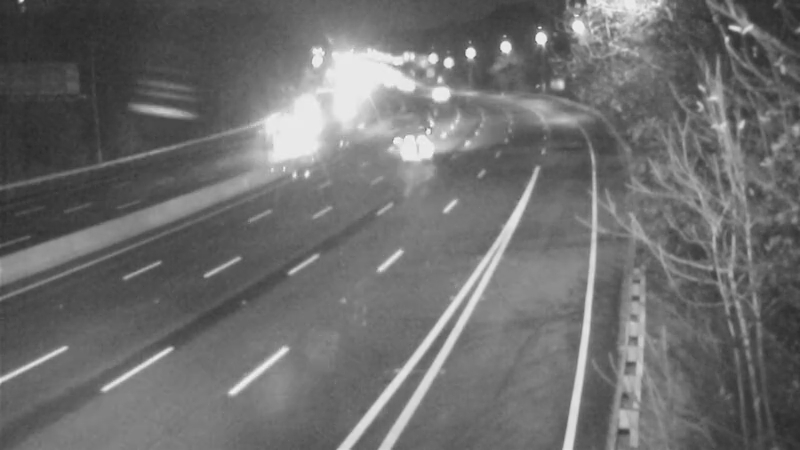vehicle: (388, 105, 438, 155), (387, 123, 437, 173), (264, 114, 314, 164), (318, 83, 368, 133)
